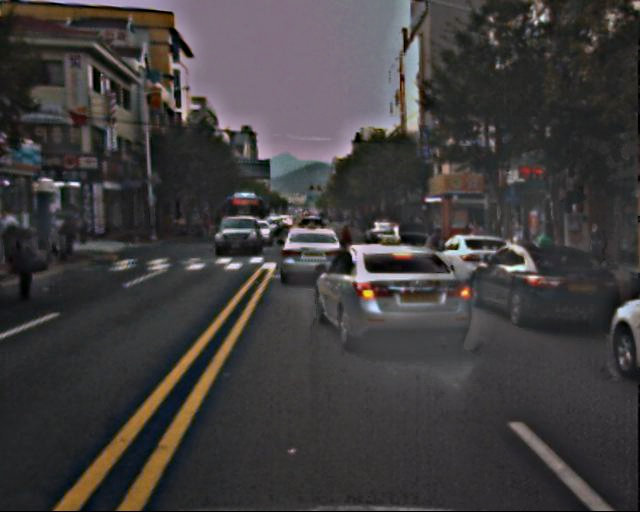person: (2, 202, 77, 289), (584, 221, 610, 285)
